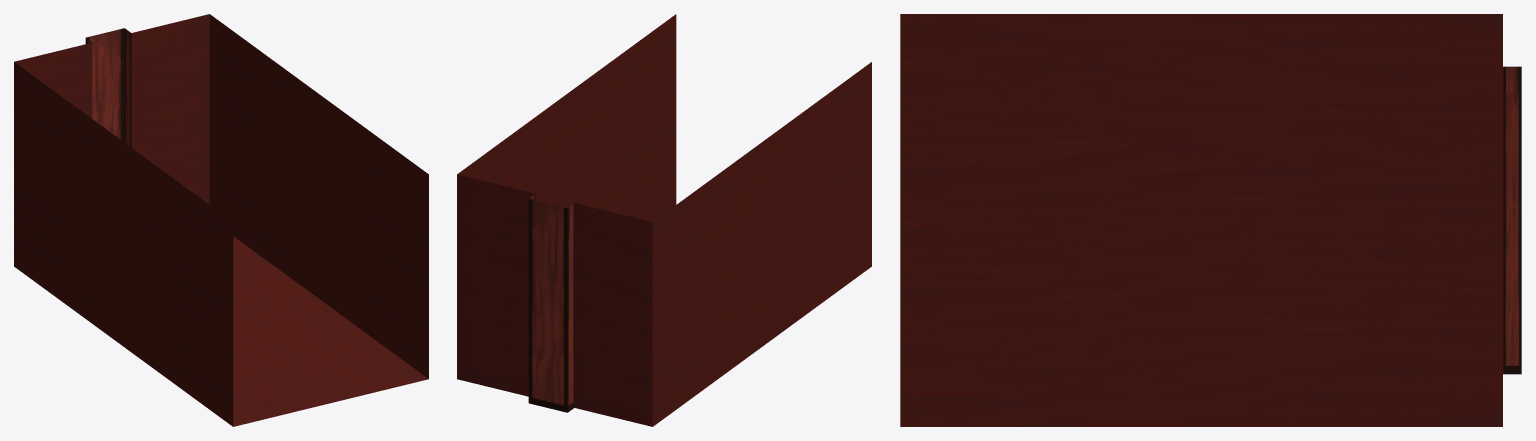
Rendered from lvl1_groundBottom.fbx.
The picture shows the model from 3 angles, left to right: view 1: azimuth 30°, elevation 25°; view 2: azimuth 150°, elevation 25°; view 3: azimuth 270°, elevation 25°; orthographic projection. The views are drawn at different scales.
Visible parts, largest first — view 1: groundBottom_lvl1; view 2: groundBottom_lvl1; view 3: groundBottom_lvl1.
Part boxes in pixels (x1,y1,x2,y2): groundBottom_lvl1: (14, 14, 428, 426); groundBottom_lvl1: (457, 14, 871, 426); groundBottom_lvl1: (900, 14, 1521, 426).
Bounding box in the file's own units: 100 × 100 × 200.
